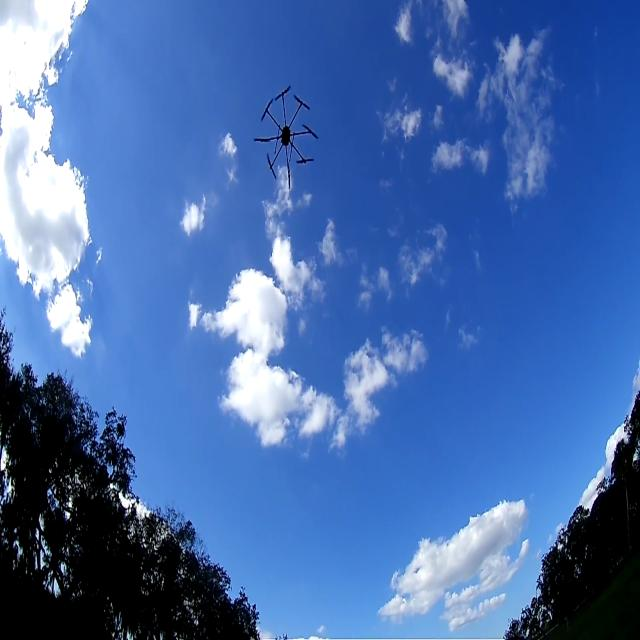drone: (256, 65, 326, 201)
